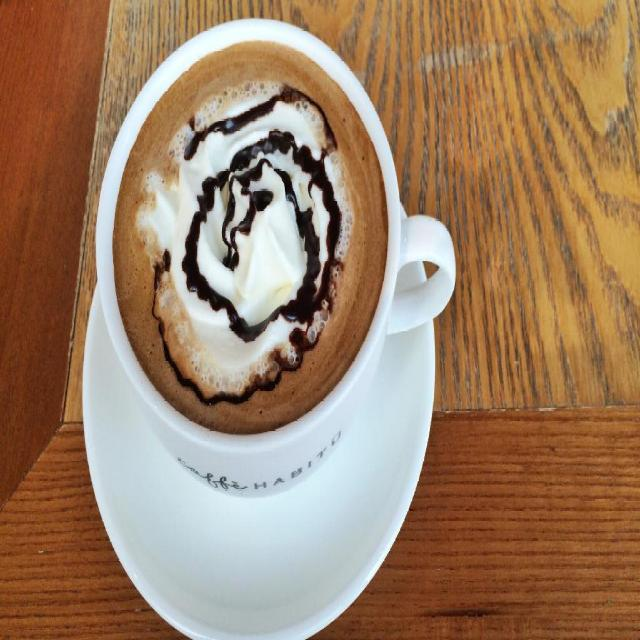Coffee: (112, 44, 388, 438)
